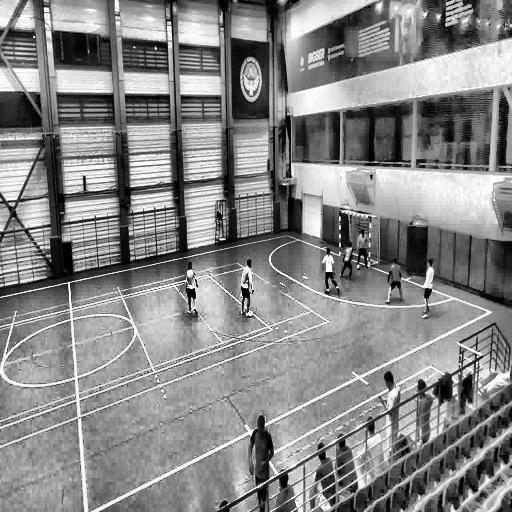ball: (356, 262, 362, 273)
player: (250, 414, 274, 510), (322, 246, 340, 294), (184, 260, 198, 316), (241, 258, 254, 318), (421, 258, 434, 318), (386, 257, 402, 302), (356, 229, 369, 270), (341, 241, 354, 280)
